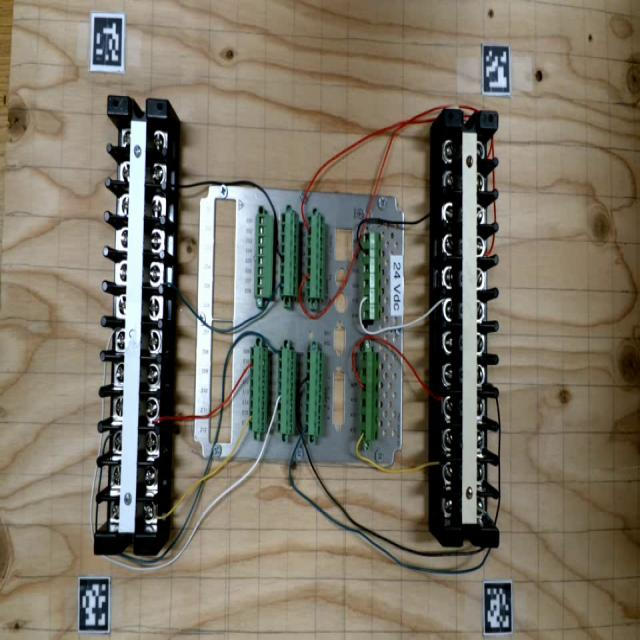Flathead_Block: (443, 109, 500, 548)
Phillips_Block: (94, 95, 170, 556)
Terminal_1: (359, 351, 379, 440), (362, 233, 381, 321)
Terminal_2: (304, 350, 325, 436), (277, 349, 296, 435), (249, 347, 268, 432), (280, 212, 299, 297), (307, 214, 325, 299)
